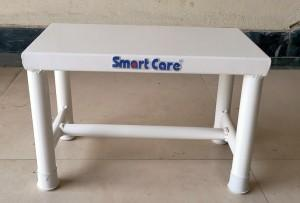stool: (20, 20, 275, 195)
